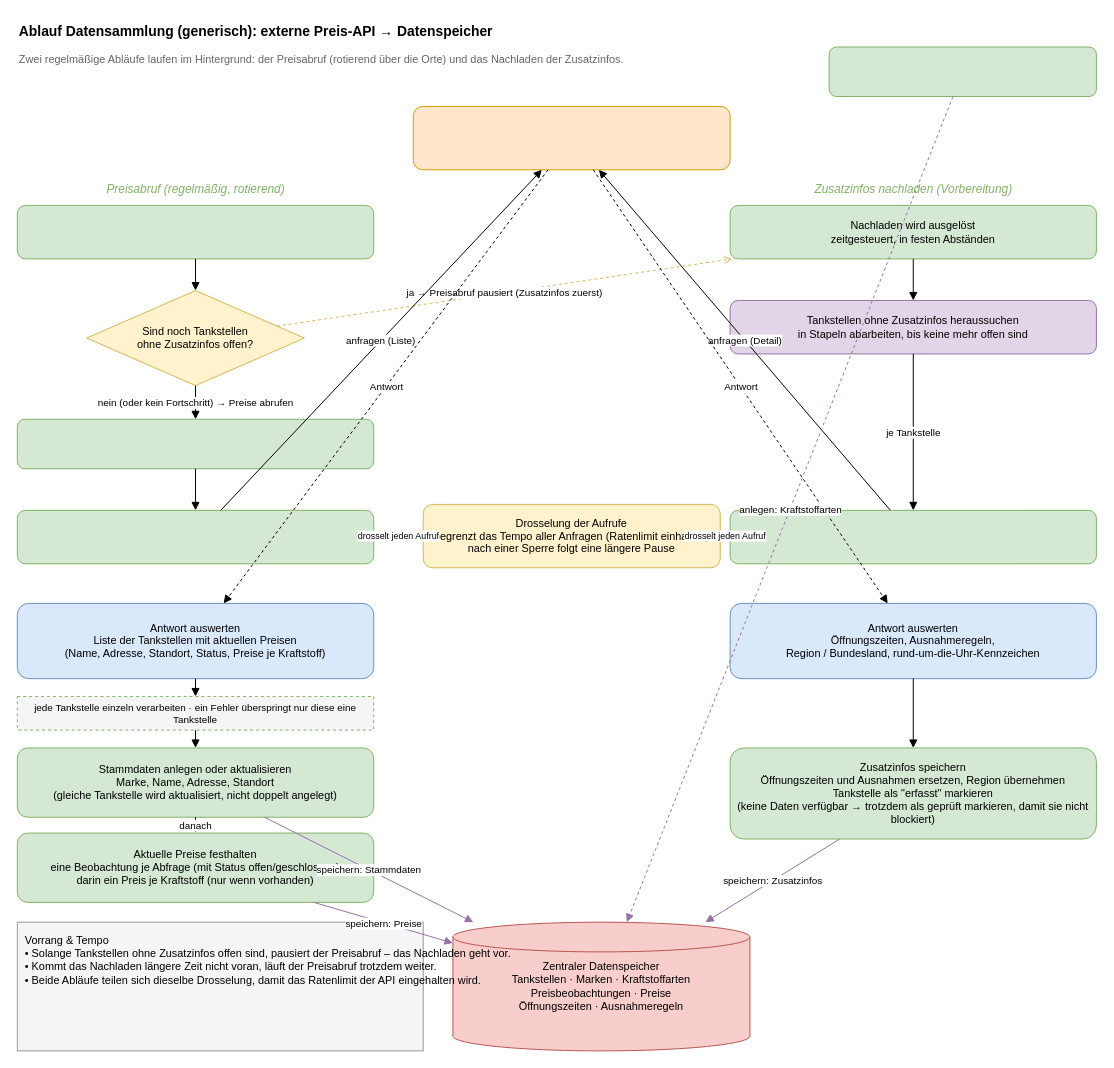
Some shapes in this 1114 by 1068 pixel diagram are drawn without their labels. Each missing label, with the centre of its shape:
"Beim Endpunkt für Detaildaten anfragen je Tankstelle einzeln (mit ihrer Kennung)" belongs at [912,536].
"Beim Endpunkt für die Umkreissuche anfragen Ort und Umkreis übergeben" belongs at [195,536].
"Beim Start (einmalig) die unterstützten Kraftstoffarten anlegen" belongs at [962,71].
"Externe Preis-API Endpunkt: Umkreissuche · Endpunkt: Detaildaten" belongs at [571,137].
"Nächste Region / nächsten Ort wählen eine je Durchlauf, danach weiterrücken" belongs at [195,443].
"Preisabruf wird ausgelöst zeitgesteuert, in festen Abständen" belongs at [195,231].
